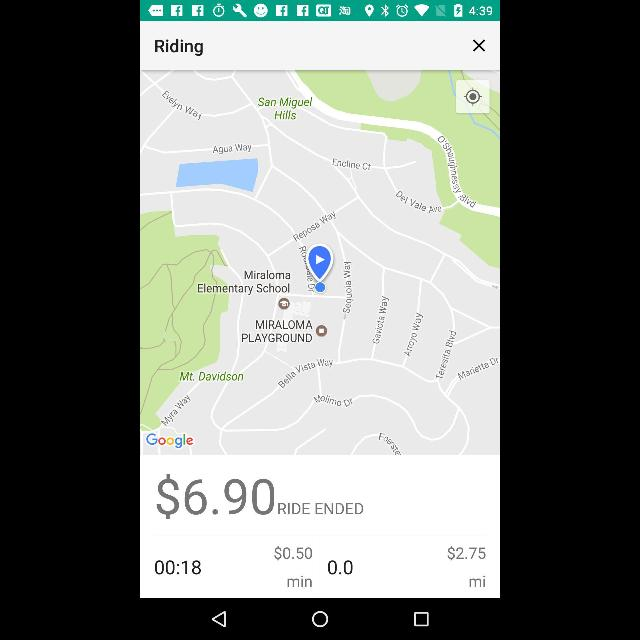icon: (463, 88, 482, 105), (312, 610, 328, 628), (212, 610, 226, 628), (414, 612, 428, 626), (473, 40, 485, 52)
map: (140, 72, 500, 454)
panel: (140, 598, 500, 640)
text: (158, 474, 274, 520), (279, 504, 363, 514), (155, 40, 203, 56), (155, 560, 201, 574), (448, 546, 486, 560), (276, 546, 312, 560), (328, 561, 352, 575), (288, 576, 312, 588), (469, 575, 485, 587)
uppertaskbar: (140, 0, 500, 20)
